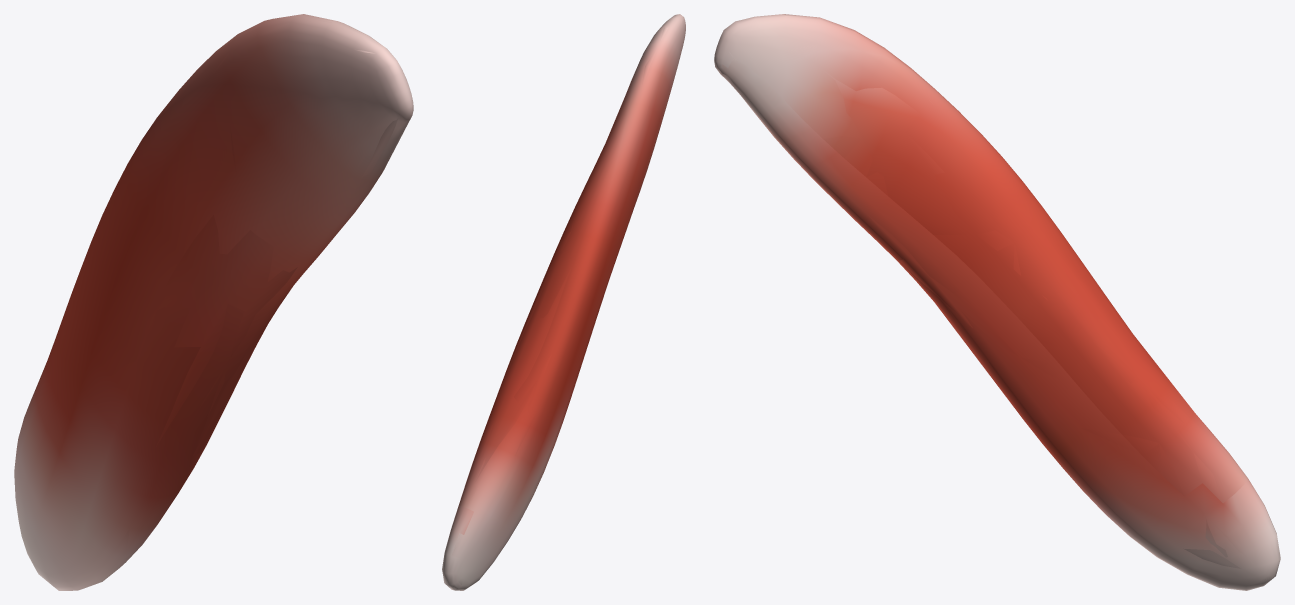
File: R Anconeus.fbx
The picture shows the model from 3 angles, left to right: view 1: azimuth 30°, elevation 25°; view 2: azimuth 150°, elevation 25°; view 3: azimuth 270°, elevation 25°; orthographic projection. The views are drawn at different scales.
Parts seen in each view (by area): view 1: R Anconeus, R Anconeus low; view 2: R Anconeus, R Anconeus low; view 3: R Anconeus, R Anconeus low.
Part boxes in pixels (box(x1,y1,x2,y2)): R Anconeus: box(14, 14, 413, 590); R Anconeus low: box(23, 15, 412, 551); R Anconeus: box(442, 14, 685, 590); R Anconeus low: box(451, 17, 682, 589); R Anconeus: box(714, 14, 1280, 590); R Anconeus low: box(716, 14, 1276, 584).
Bounding box in the file's own units: 1.18 × 7.86 × 7.21.
